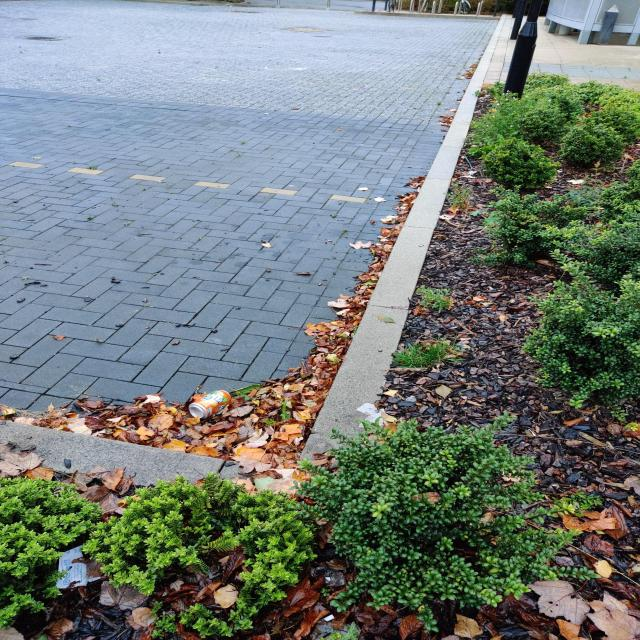litter: (189, 388, 234, 421)
